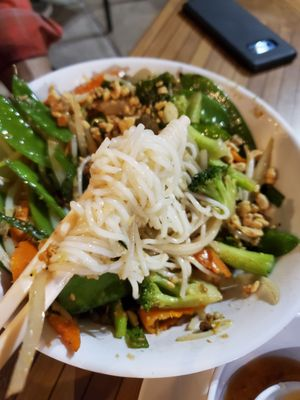curry: (187, 164, 261, 219)
sushi: (0, 56, 300, 389), (207, 347, 300, 400)
